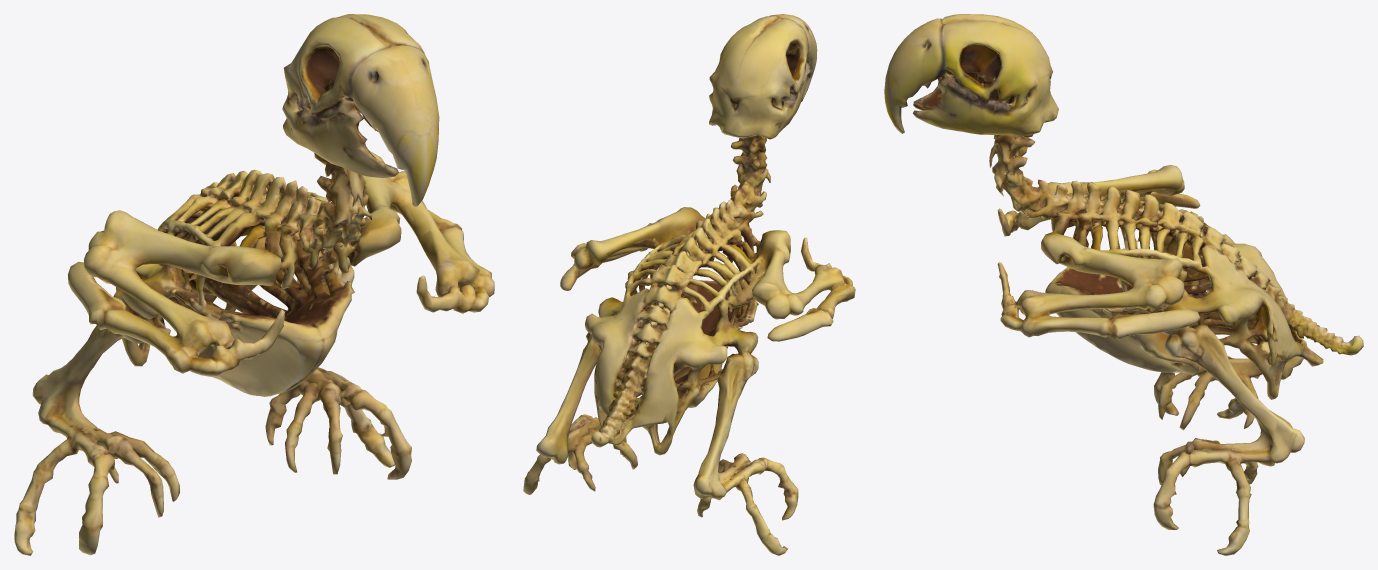
The model's file is papagaioOssea.glb.
The picture shows the model from 3 angles, left to right: view 1: azimuth 30°, elevation 25°; view 2: azimuth 150°, elevation 25°; view 3: azimuth 270°, elevation 25°; orthographic projection. The views are drawn at different scales.
Parts seen in each view (by area): view 1: Mesh1.0; view 2: Mesh1.0; view 3: Mesh1.0.
Boxes of the visible parts, x1=… form: Mesh1.0: x1=14, y1=14, x2=494, y2=555; Mesh1.0: x1=523, y1=14, x2=855, y2=555; Mesh1.0: x1=884, y1=14, x2=1363, y2=555.
Bounding box in the file's own units: 1.25 × 1.91 × 1.77.
1 material, 1 textured.
